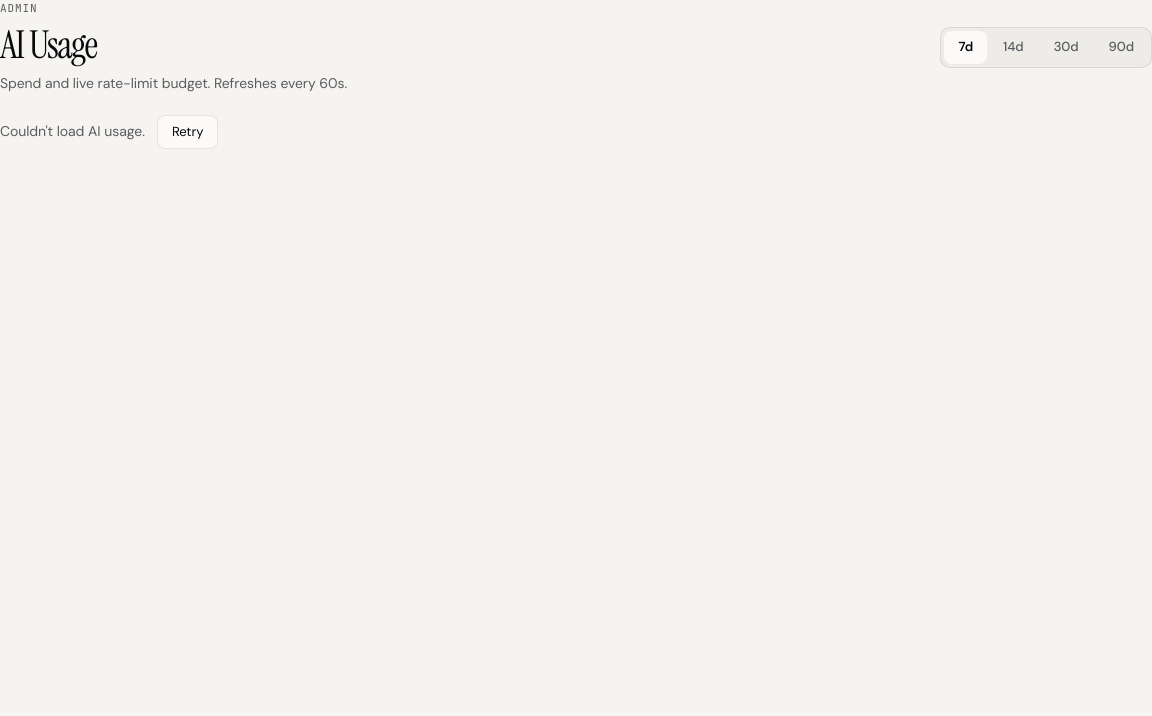
Scenario: AdminAiUsageClient › shows a retry button when the first load fails
Expected: the message "Couldn't load AI usage. Retry" is shown, top-left (0, 115), bottom-right (218, 149)
Expected: the text "Couldn't load AI usage." is shown, top-left (0, 121), bottom-right (145, 143)
Click the button "Retry".
click(188, 132)  # box top-left (157, 115), bottom-right (218, 149)
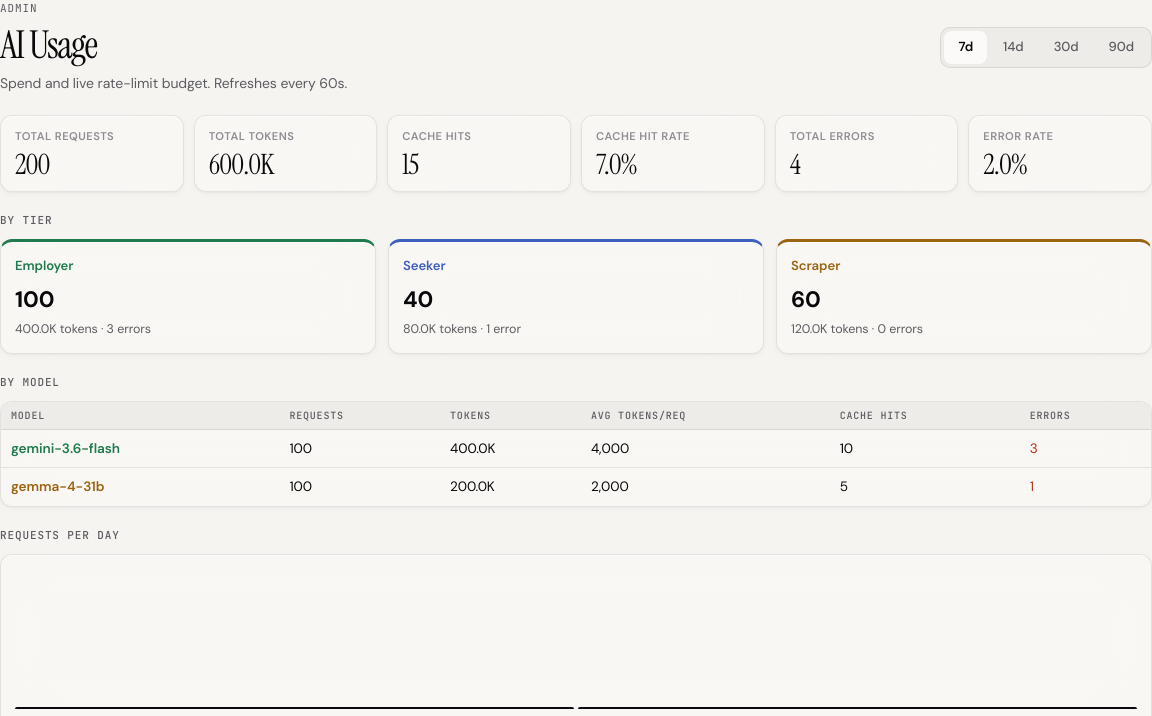
Expected: the number of elements with test id "kpi-tile" is 6, top-left (0, 115), bottom-right (184, 192); top-left (194, 115), bottom-right (377, 192); top-left (387, 115), bottom-right (571, 192); top-left (581, 115), bottom-right (765, 192); top-left (775, 115), bottom-right (958, 192); top-left (968, 115), bottom-right (1151, 192)
